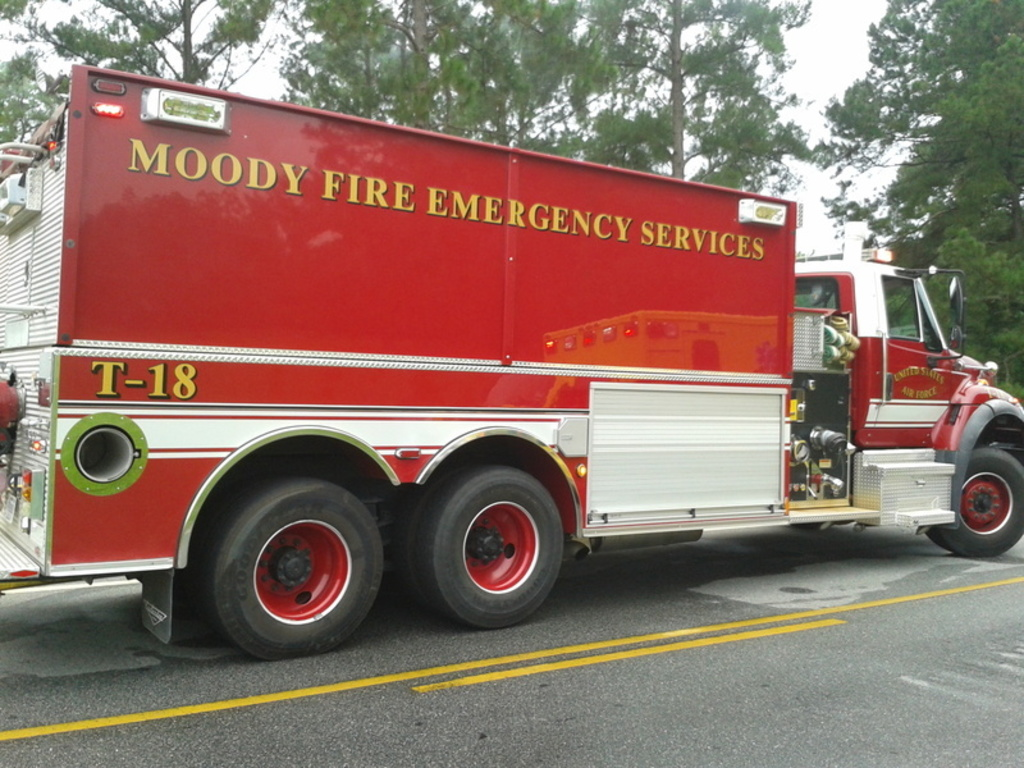Truck: (0, 61, 1024, 661)
